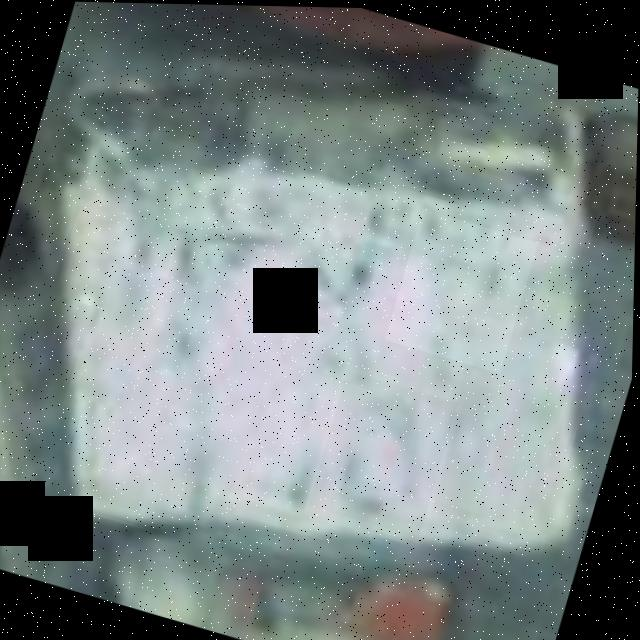0: (305, 359, 467, 536)
3: (310, 369, 460, 536)
5: (232, 359, 372, 523)
7: (401, 369, 539, 523)
B: (386, 207, 540, 371)
F: (104, 291, 277, 497)
